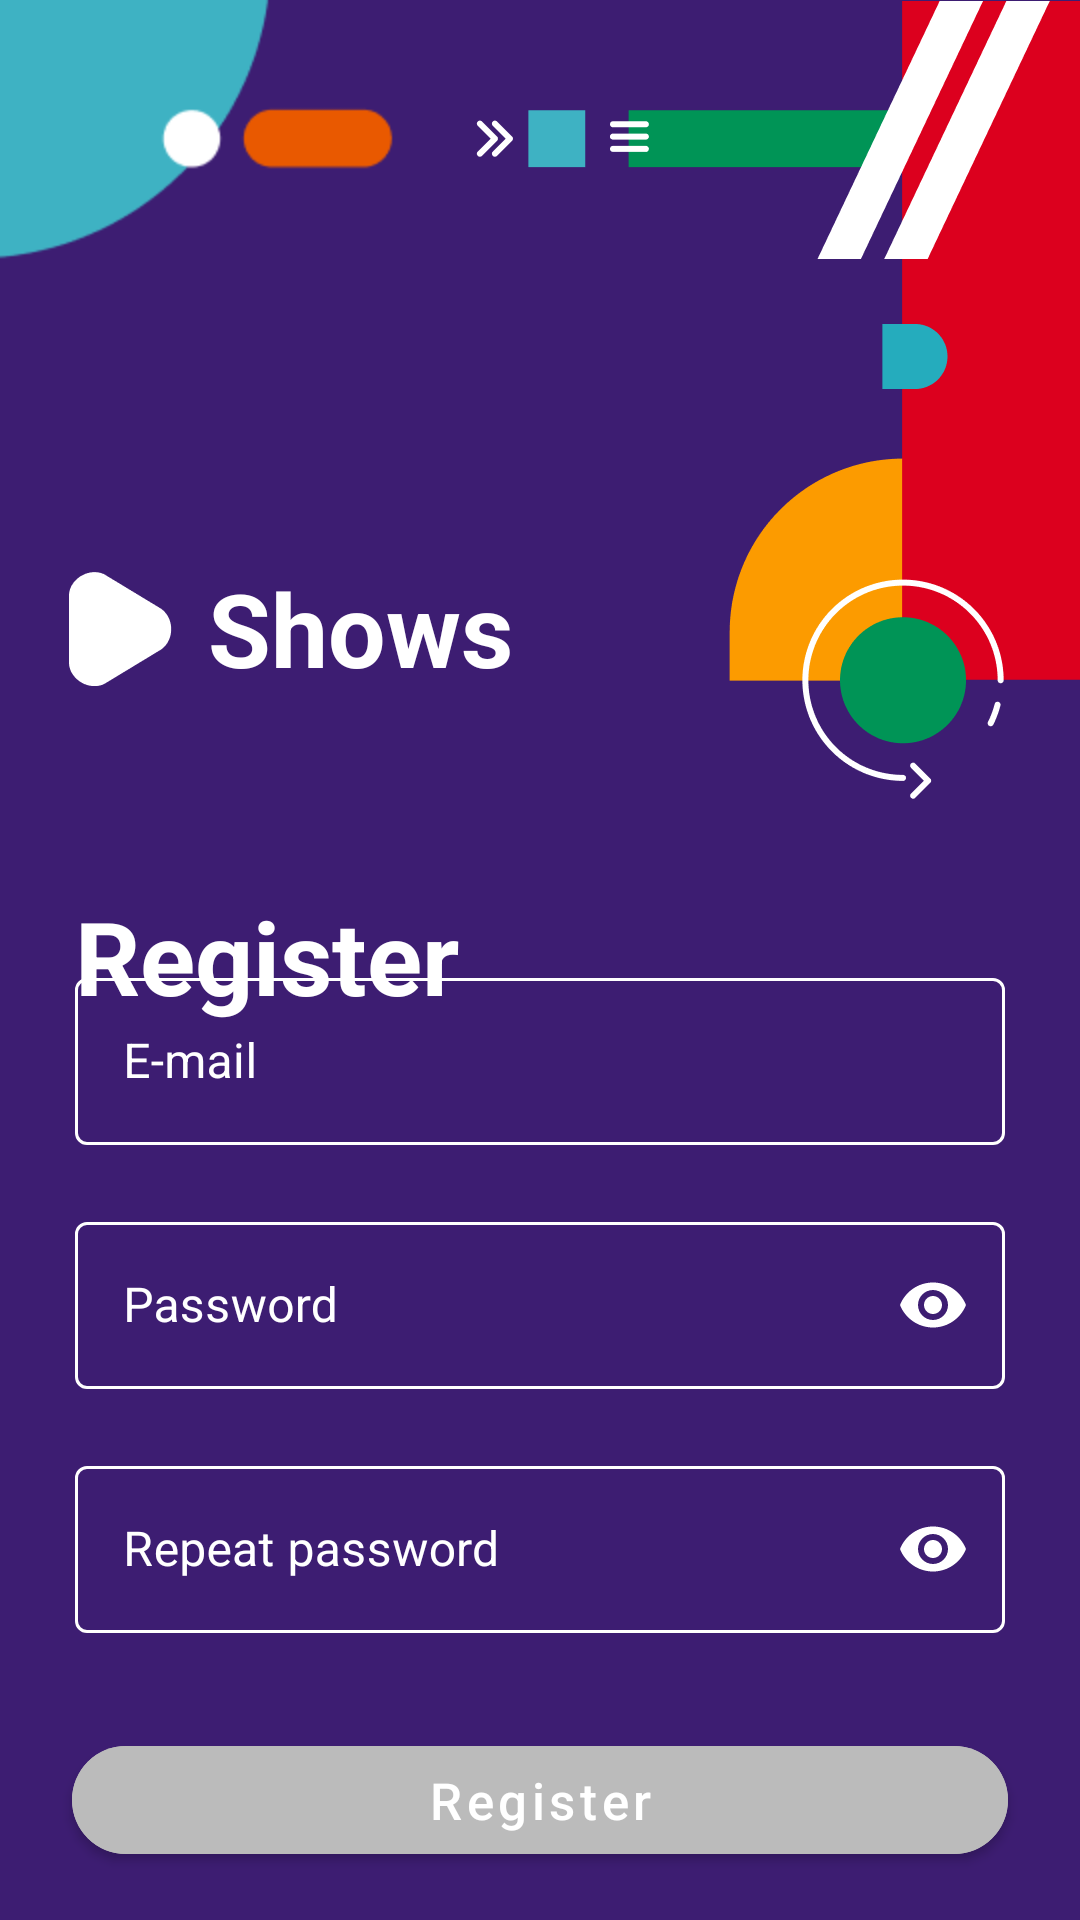

Icon bounding boxes for this 1080w x 1920h phone screenshot, format (x1, y1, x2, y2):
triangle: (69, 572, 172, 686)
